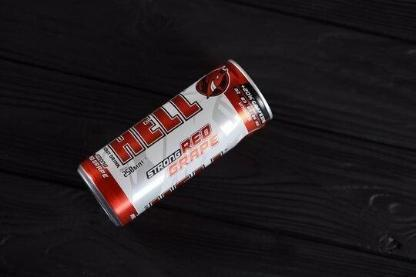Can: (74, 57, 276, 230)
